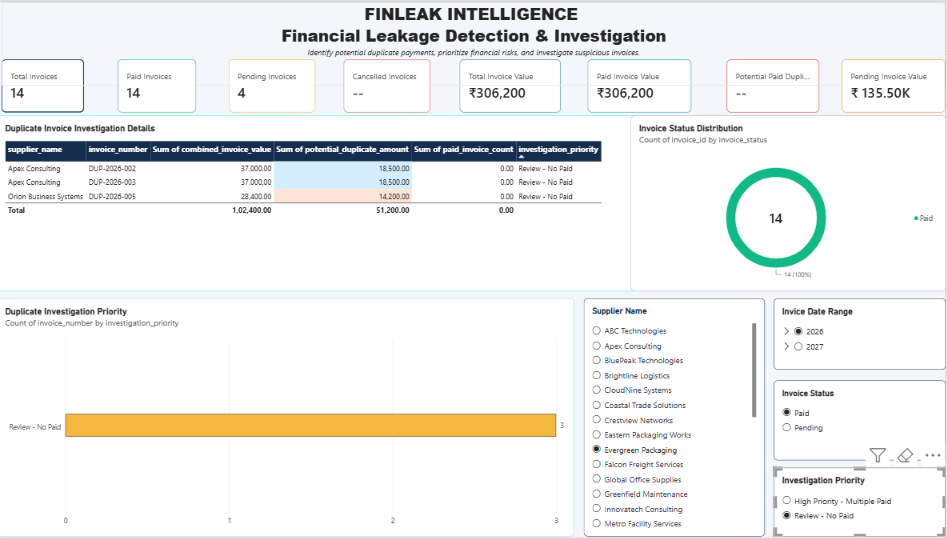

What the dashboard file says about the page in this screenshot:
{"tool":"powerbi","page":{"name":"Page 1","canvas":[1920,1080],"ordinal":0},"visuals":[{"type":"cardVisual","fields":{"Data":["invoices.Total Invoices"]},"box":[10.3,115.3,166.7,107],"z":0},{"type":"cardVisual","fields":{"Data":["invoices.Total Invoice Value Display"]},"box":[936.5,115.3,203.8,107],"z":1},{"type":"cardVisual","fields":{"Data":["invoices.Paid Invoice Value"]},"box":[1195.9,115.3,209.9,107],"z":2},{"type":"cardVisual","fields":{"Data":["invoices.Potential Paid Duplicate Amount"]},"box":[1477.9,115.3,187.3,107],"z":3},{"type":"tableEx","title":"Duplicate Invoice Investigation Details","fields":{"Values":["vw_duplicate_inestigation.supplier_name","vw_duplicate_inestigation.invoice_number","Sum(vw_duplicate_inestigation.combined_invoice_value)","Sum(vw_duplicate_inestigation.potential_duplicate_amount)","Sum(vw_duplicate_inestigation.paid_invoice_count)","vw_duplicate_inestigation.investigation_priority"]},"box":[0,228.7,1301.2,356.2],"z":4},{"type":"donutChart","title":"Invoice Status Distribution","fields":{"Category":["invoices.invoice_status"],"Y":["CountNonNull(invoices.invoice_id)"]},"box":[1283,228.7,637.4,356.2],"z":5},{"type":"textbox","box":[10.3,0,1910.1,168.8],"z":6},{"type":"clusteredBarChart","title":"Duplicate Investigation Priority","fields":{"Category":["vw_duplicate_inestigation.investigation_priority"],"Y":["CountNonNull(vw_duplicate_inestigation.invoice_number)"]},"box":[0,599,1169.1,481.6],"z":7},{"type":"cardVisual","fields":{"Data":["invoices.Pending Invoices"]},"box":[469.3,115.3,175,107],"z":8},{"type":"cardVisual","fields":{"Data":["invoices.Pending Invoice Value"]},"box":[1710.5,115.3,209.9,107],"z":9},{"type":"cardVisual","fields":{"Data":["invoices.Cancelled Invoices"]},"box":[701.9,115.3,175,107],"z":10},{"type":"cardVisual","fields":{"Data":["invoices.Paid Invoices"]},"box":[244.9,115.3,158.5,107],"z":11},{"type":"listSlicer","title":"Supplier Name","fields":{"Values":["suppliers.supplier_name"]},"box":[1187.9,599,366.3,481.6],"z":12},{"type":"listSlicer","title":"Invoice Status","fields":{"Values":["invoices.invoice_status"]},"box":[1572.3,764.9,348.1,161.9],"z":13},{"type":"listSlicer","title":"Invice Date Range","fields":{"Values":["invoices.invoice_date.Variation.Date Hierarchy.Year","invoices.invoice_date.Variation.Date Hierarchy.Quarter","invoices.invoice_date.Variation.Date Hierarchy.Month","invoices.invoice_date.Variation.Date Hierarchy.Day"]},"box":[1572.3,599,348.1,143.7],"z":14},{"type":"listSlicer","title":"Investigation Priority","fields":{"Values":["vw_duplicate_inestigation.investigation_priority"]},"box":[1572.6,940.7,347.9,140],"z":15}]}

Visuals, with their boxes in screenshot pixels (x1, y1, x2, y2), scaled from the page's 1920x1080 canvas onto the 947x538 screenshot:
cardVisual - invoices.Total Invoices: <box>5,57,87,111</box>
cardVisual - invoices.Total Invoice Value Display: <box>462,57,562,111</box>
cardVisual - invoices.Paid Invoice Value: <box>590,57,693,111</box>
cardVisual - invoices.Potential Paid Duplicate Amount: <box>729,57,821,111</box>
"Duplicate Invoice Investigation Details" tableEx: <box>0,114,642,291</box>
"Invoice Status Distribution" donutChart: <box>633,114,946,291</box>
textbox: <box>5,0,946,84</box>
"Duplicate Investigation Priority" clusteredBarChart: <box>0,298,577,537</box>
cardVisual - invoices.Pending Invoices: <box>231,57,318,111</box>
cardVisual - invoices.Pending Invoice Value: <box>844,57,946,111</box>
cardVisual - invoices.Cancelled Invoices: <box>346,57,433,111</box>
cardVisual - invoices.Paid Invoices: <box>121,57,199,111</box>
"Supplier Name" listSlicer: <box>586,298,767,537</box>
"Invoice Status" listSlicer: <box>776,381,946,462</box>
"Invice Date Range" listSlicer: <box>776,298,946,370</box>
"Investigation Priority" listSlicer: <box>776,469,946,537</box>
